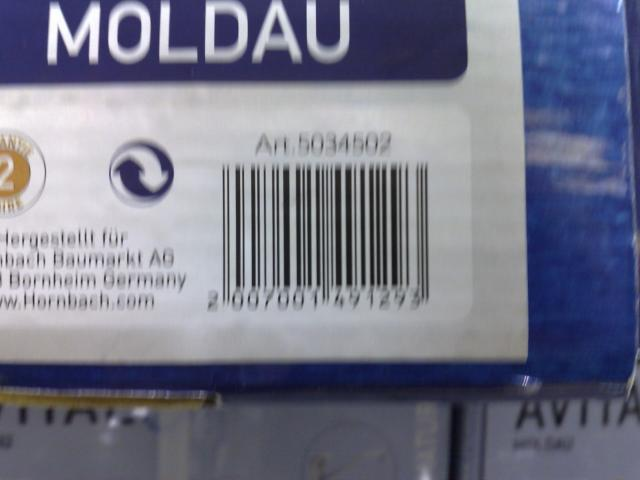Barkod: (218, 160, 432, 286)
